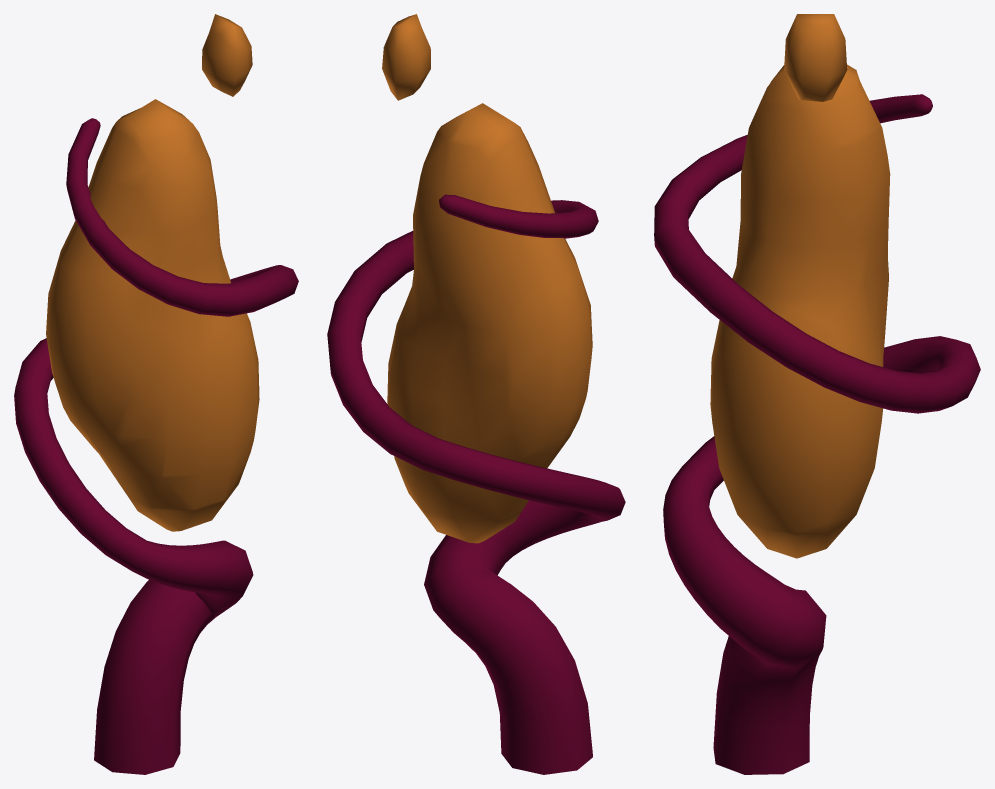
The model's file is Tree Lava-9gRfmVKx9W.glb.
3 views of the same model, side by side, from view 1: azimuth 30°, elevation 25°; view 2: azimuth 150°, elevation 25°; view 3: azimuth 270°, elevation 25° (orthographic). The views are drawn at different scales.
Parts seen in each view (by area): view 1: Tree_Lava_1; view 2: Tree_Lava_1; view 3: Tree_Lava_1.
Part boxes in pixels (bbox=[...]): Tree_Lava_1: bbox=[14, 14, 298, 774]; Tree_Lava_1: bbox=[327, 14, 625, 774]; Tree_Lava_1: bbox=[654, 14, 980, 774].
Bounding box in the file's own units: 1.2 × 3.24 × 1.2.
Materials: 1 (1 with a texture image).
